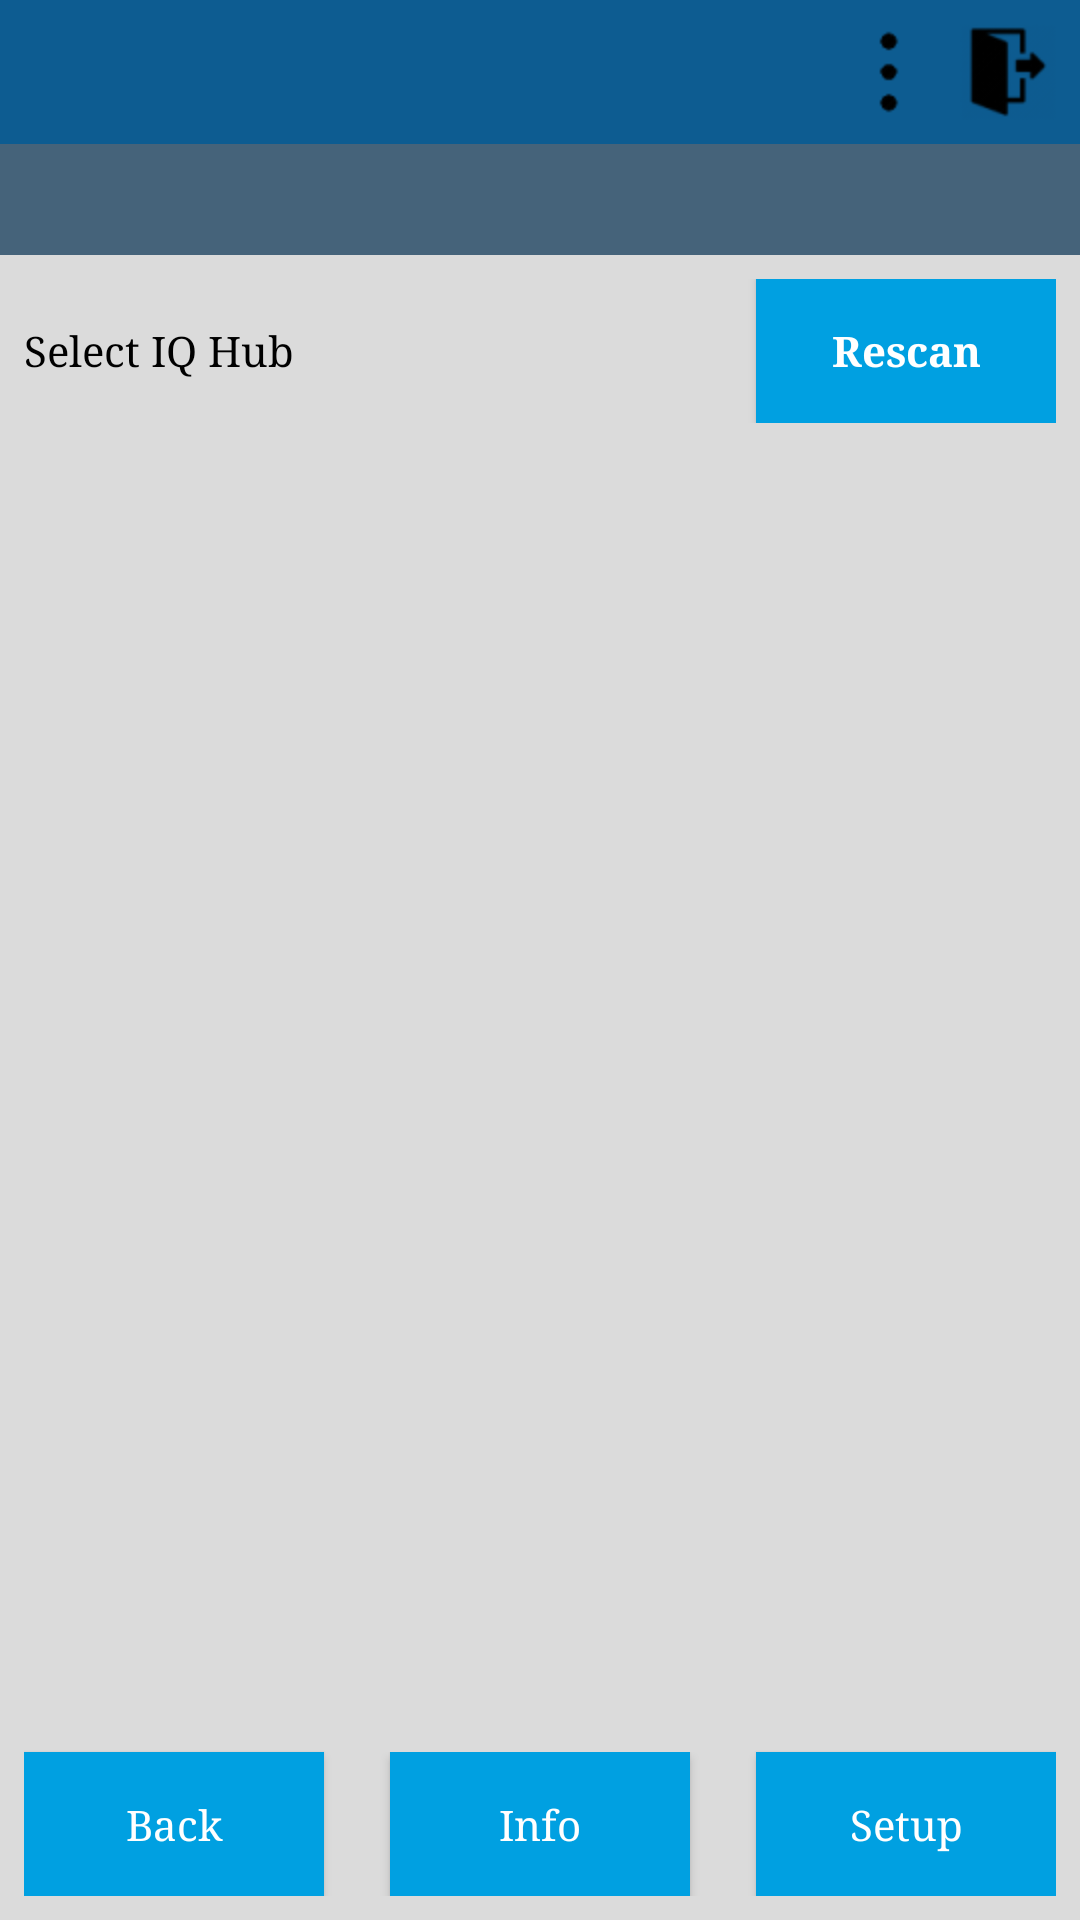

Icon click points for this 1080 x 1920 phone screenshot, format [x,y]:
exit: [1008,72]
